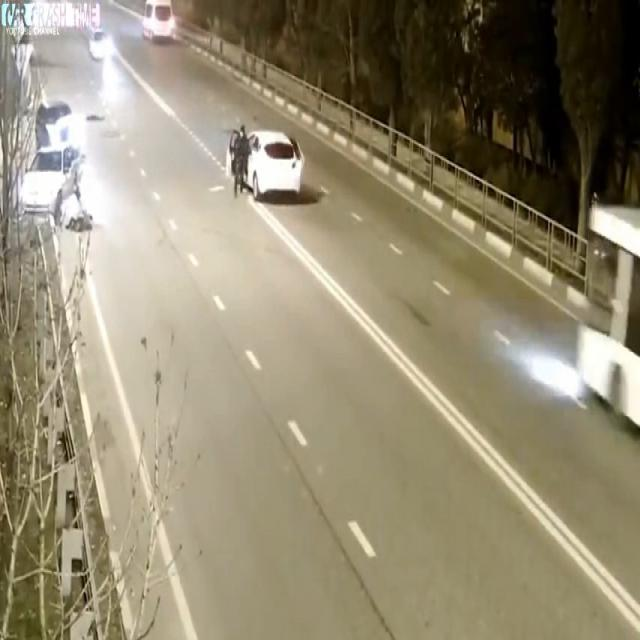Accident: (25, 100, 87, 272)
